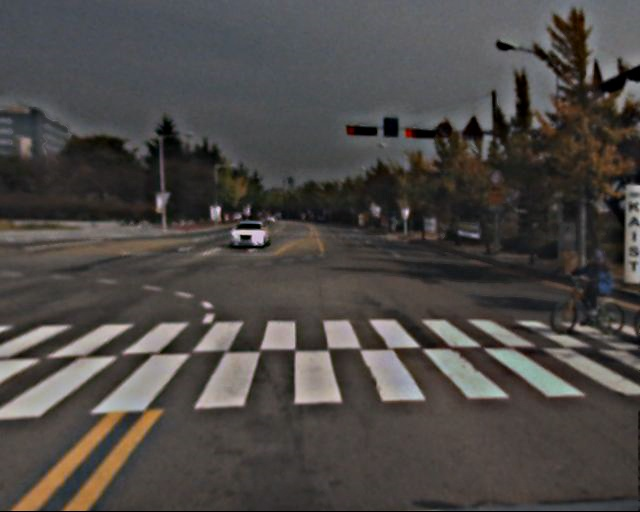person: (580, 249, 613, 329)
